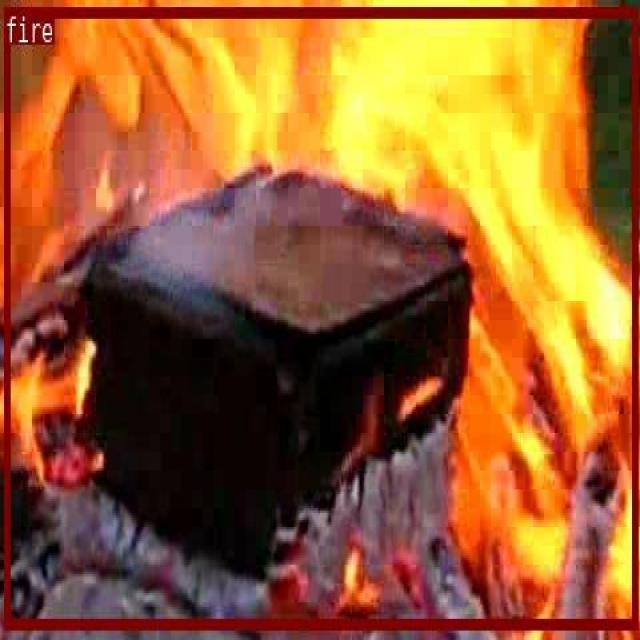fire: (4, 5, 637, 627)
